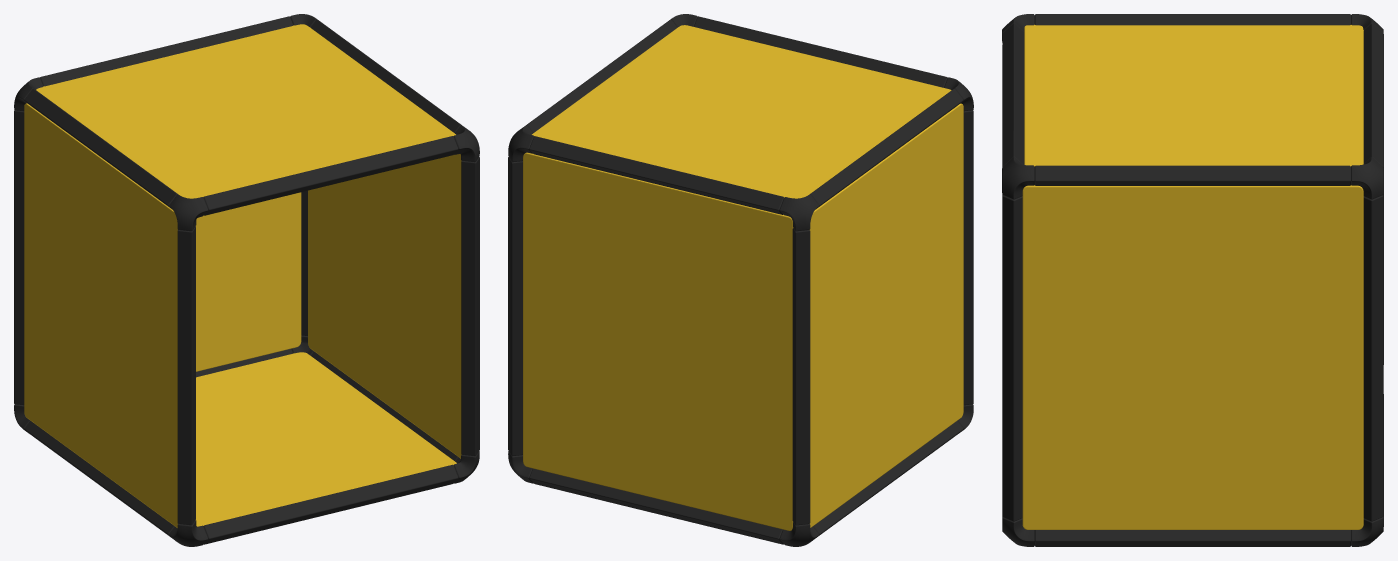
The picture shows the model from 3 angles, left to right: view 1: azimuth 30°, elevation 25°; view 2: azimuth 150°, elevation 25°; view 3: azimuth 270°, elevation 25°; orthographic projection. The views are drawn at different scales.
Parts seen in each view (by area): view 1: 374x374x420; view 2: 374x374x420; view 3: 374x374x420.
Part boxes in pixels (x1,y1,x2,y2): 374x374x420: [14, 14, 479, 546]; 374x374x420: [508, 14, 973, 546]; 374x374x420: [1002, 14, 1383, 546].
Bounding box in the file's own units: 0.4517 × 0.4976 × 0.4513.
